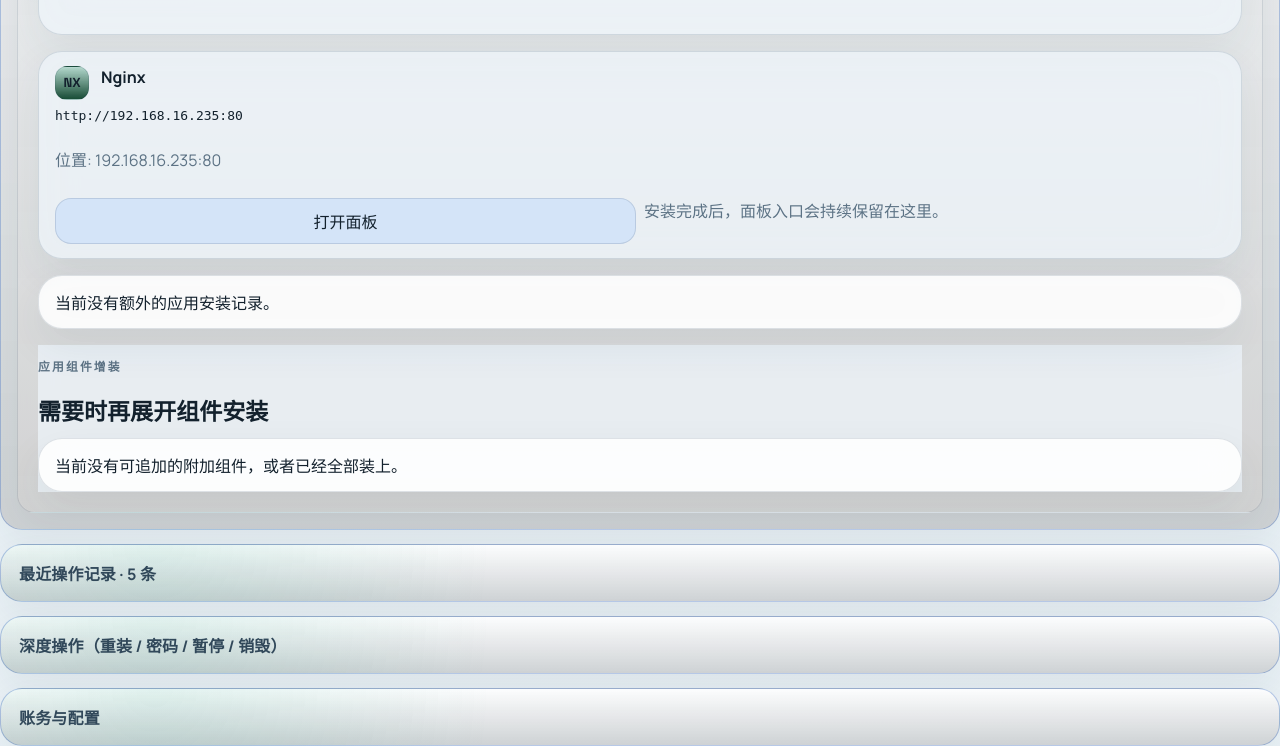
it: ServiceDetailPage › organizes deep controls and billing content into grouped subpanels
(page scrolled)
Click the heading "深度操作（重装 / 密码 / 暂停 / 销毁）": coordinates (153, 646) 19,635 -> 287,657
(page scrolled)
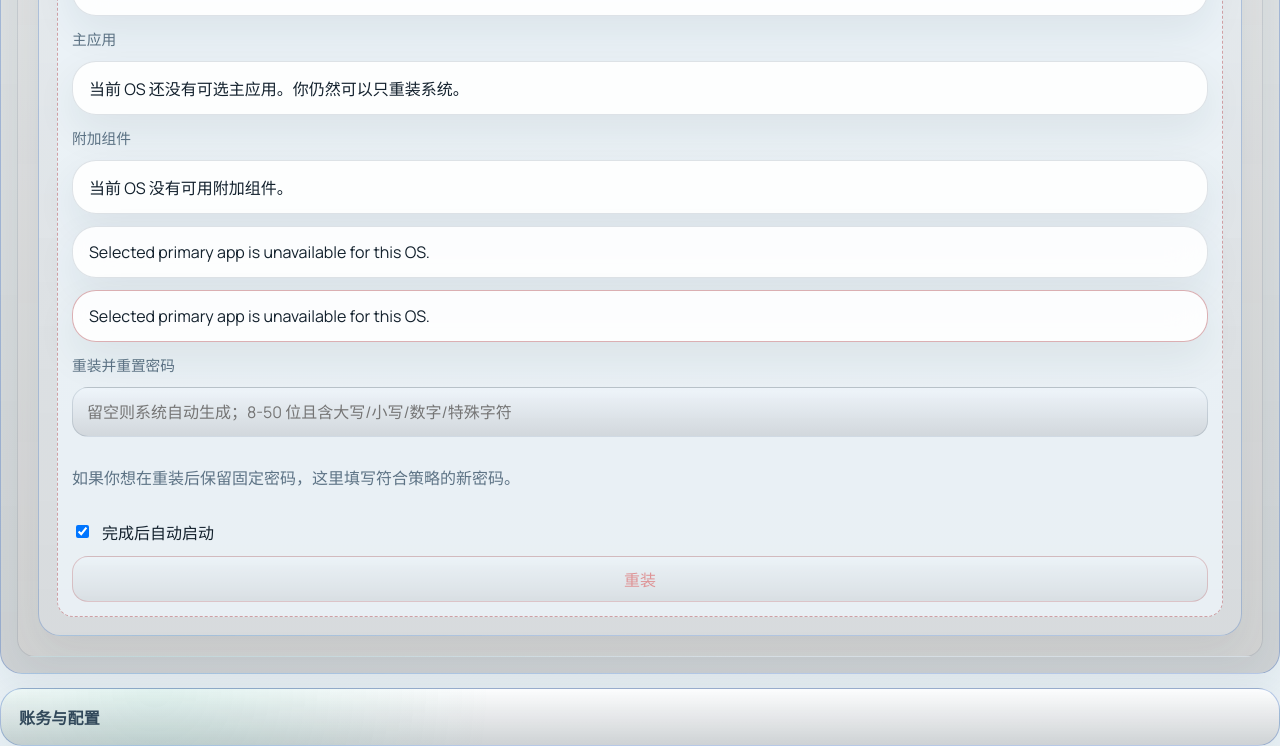
Click the heading "账务与配置": coordinates (59, 718) 19,707 -> 100,729
(page scrolled)
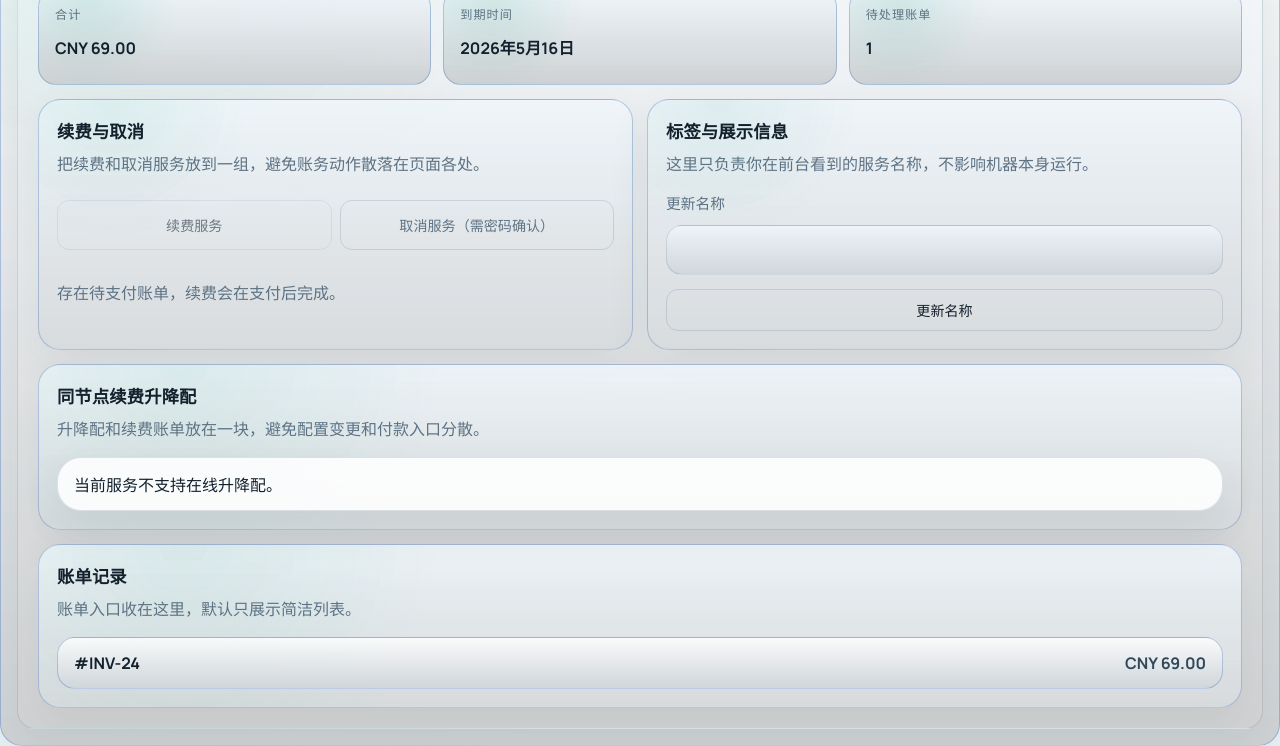
Now the text "续费与取消" is shown, box 57,120 -> 144,143
Now the text "标签与展示信息" is shown, box 666,120 -> 788,143
Now the text "账单记录" is shown, box 57,565 -> 127,588
